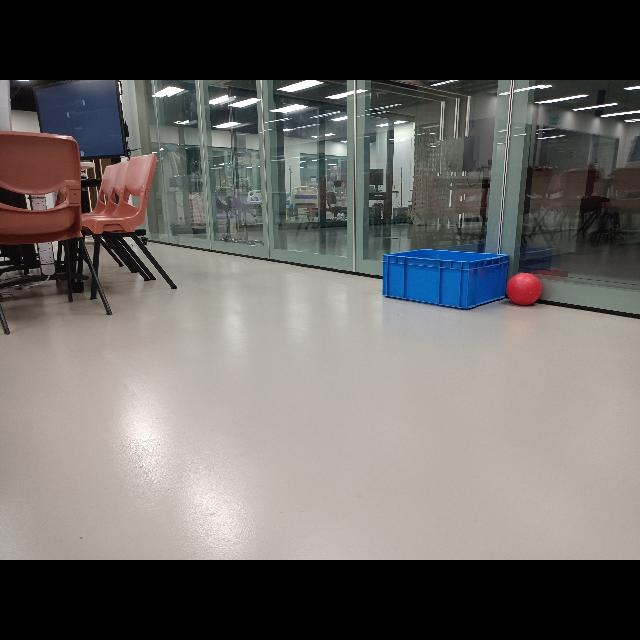R: (506, 272, 542, 306)
